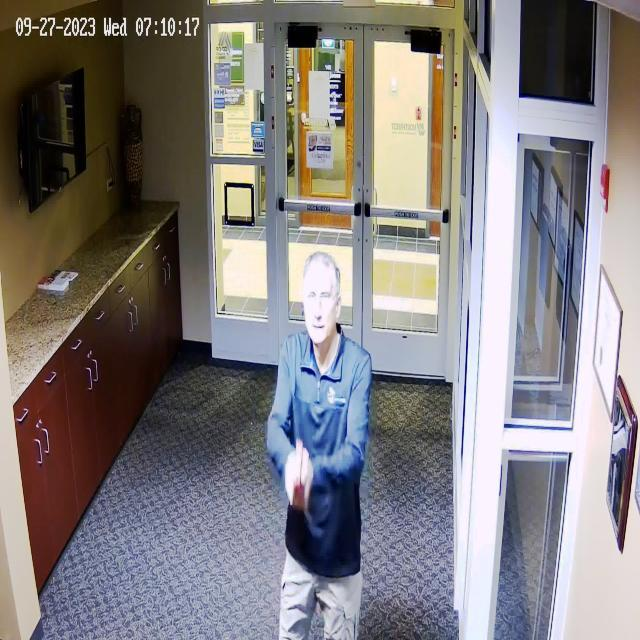Gun: (286, 435, 316, 515)
